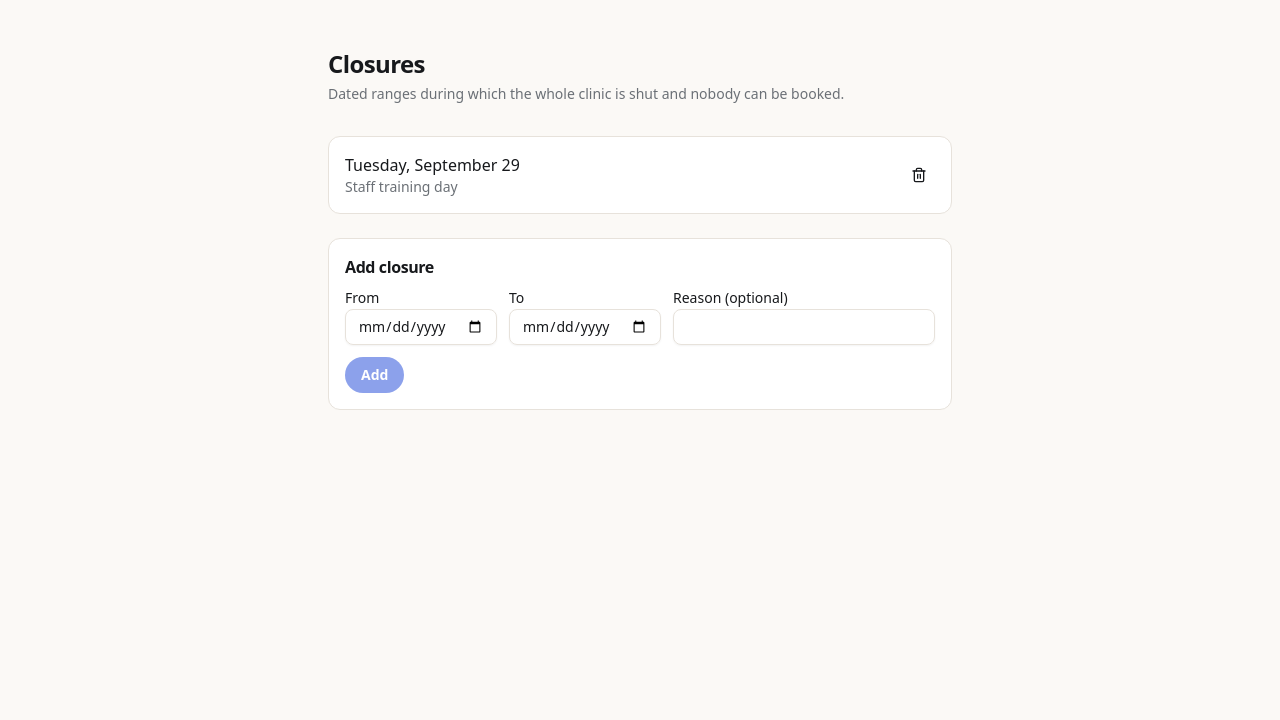
Scenario: removing a range › asks first, then sends the delete and drops the row
The image size is (1280, 720).
Check: the text "Staff training day" is shown, box [345, 177, 458, 196]
Click the button named "Remove closure".
click(919, 175)  # box [903, 159, 935, 191]
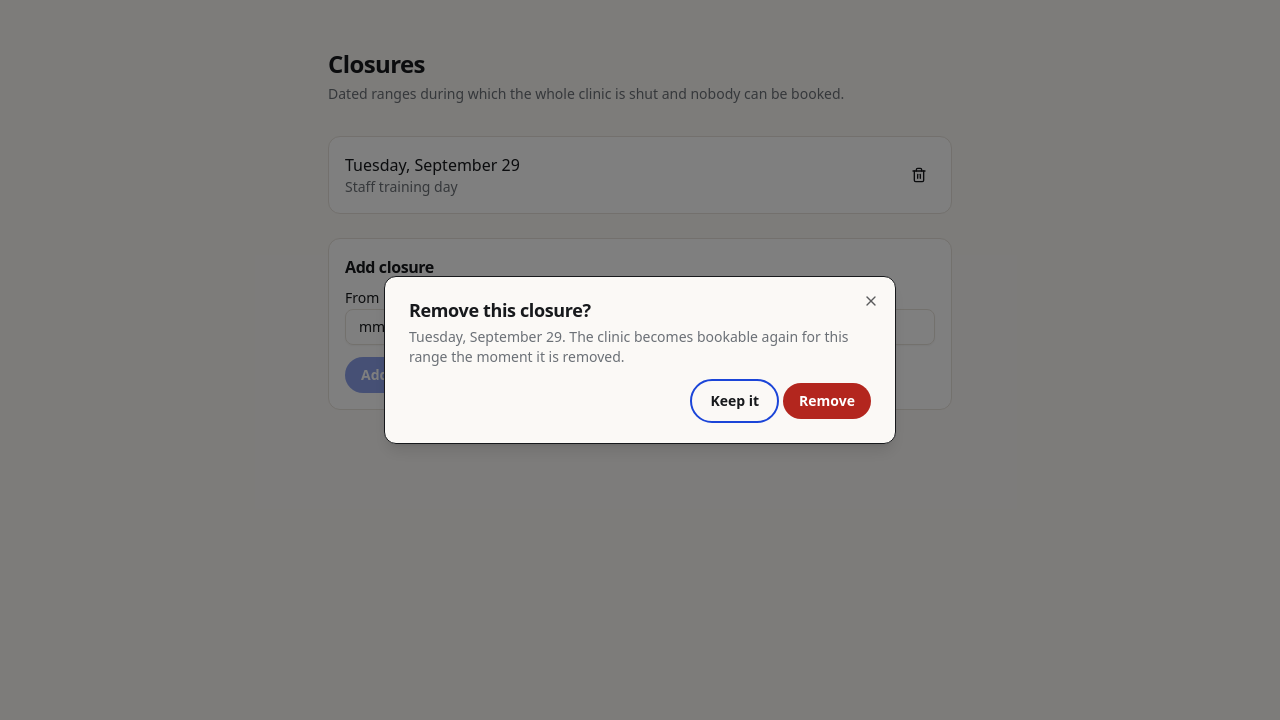
Check: the heading "Remove this closure?" is shown, box [409, 298, 591, 322]
Click the button "Remove".
click(827, 401)  # box [783, 383, 871, 419]
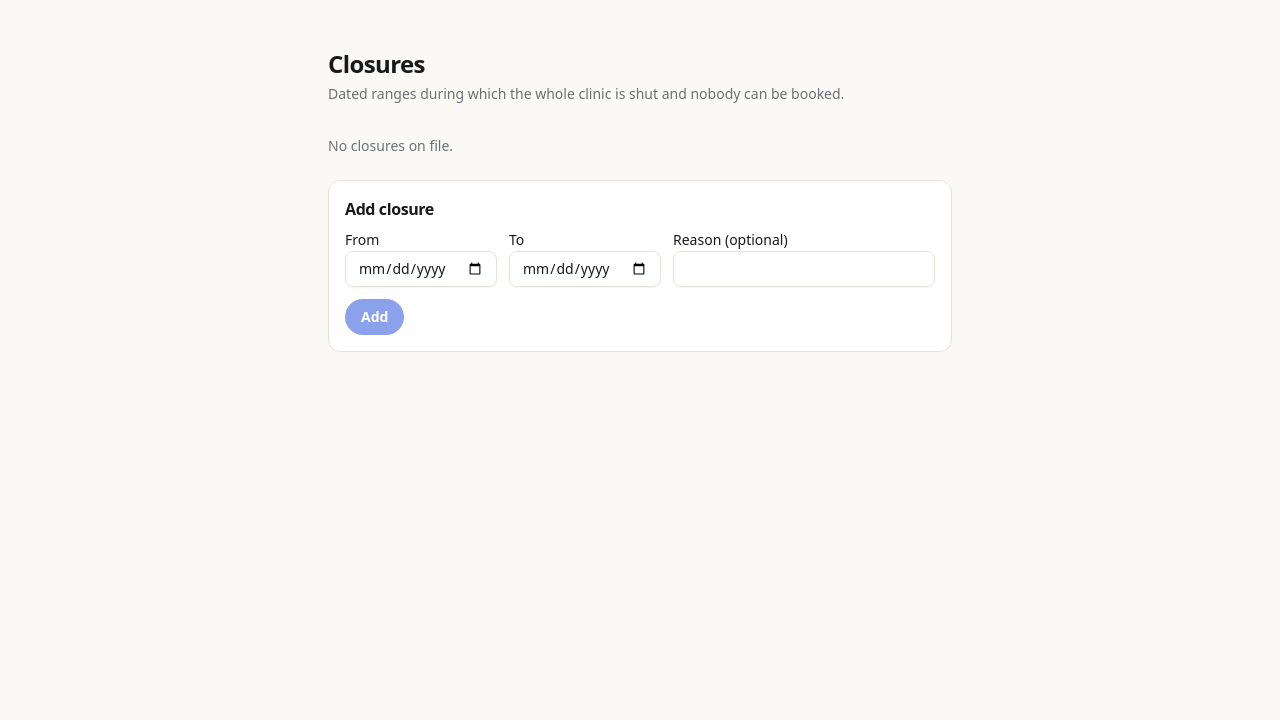
Check: the text "No closures on file." is shown, box [328, 136, 453, 155]
